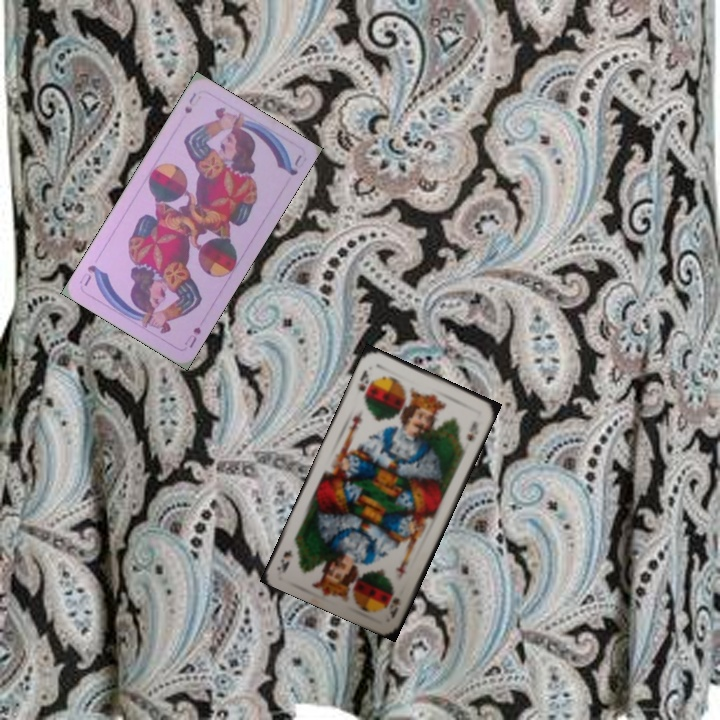SK: (354, 366, 372, 394), (385, 593, 403, 621)
SU: (180, 323, 204, 351), (180, 88, 199, 116)
